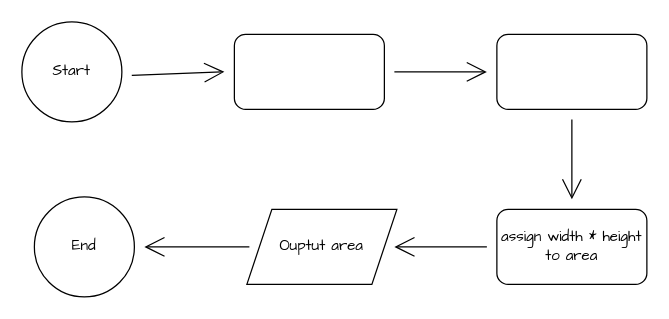
Some shapes in this 669 by 319 pixel diagram are drawn without their labels. The centre of each missing label's shape, as x and y in pixels:
assign 4 to height: the point at 571,71
assign 6 to width: the point at 308,71
